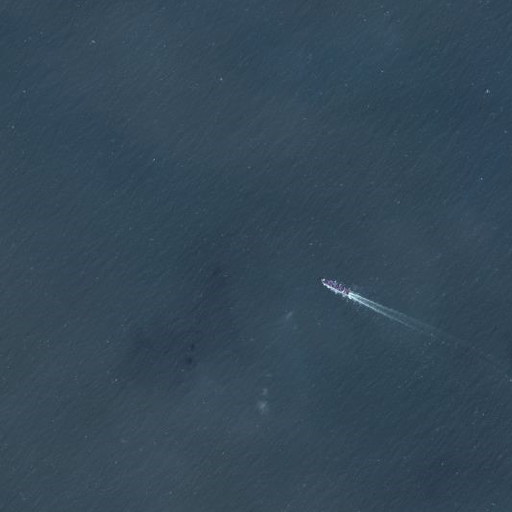ship: (316, 274, 356, 301)
